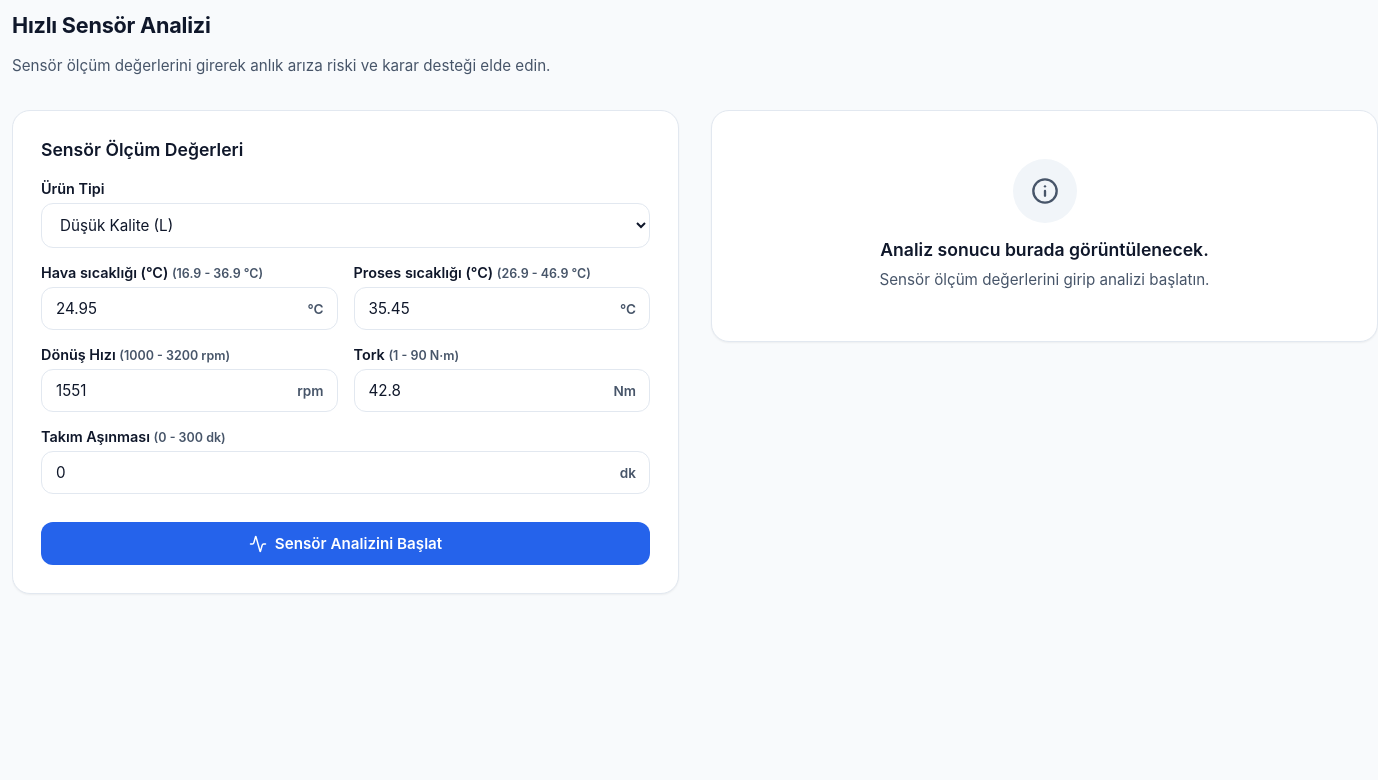
Scenario: HizliAnaliz › 400 alan hatalarını ve 503 servis hatalarını kullanıcı dostu gösterir
The width and height of the screenshot is (1378, 780).
Click the button "Sensör Analizini Başlat": (346, 544) [41,522,650,565]
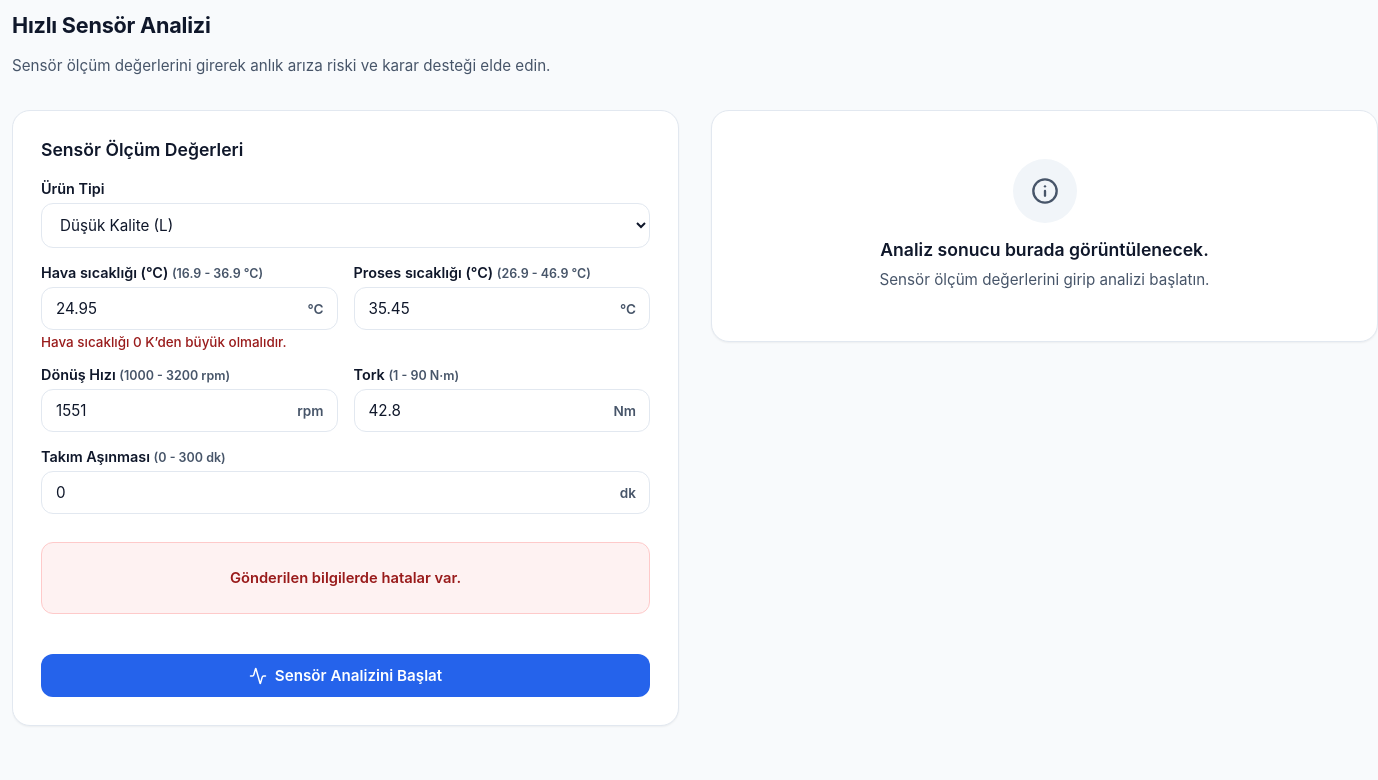
expect the text "Hava sıcaklığı 0 K’den büyük olmalıdır." is shown: met, box [41,334,286,350]
